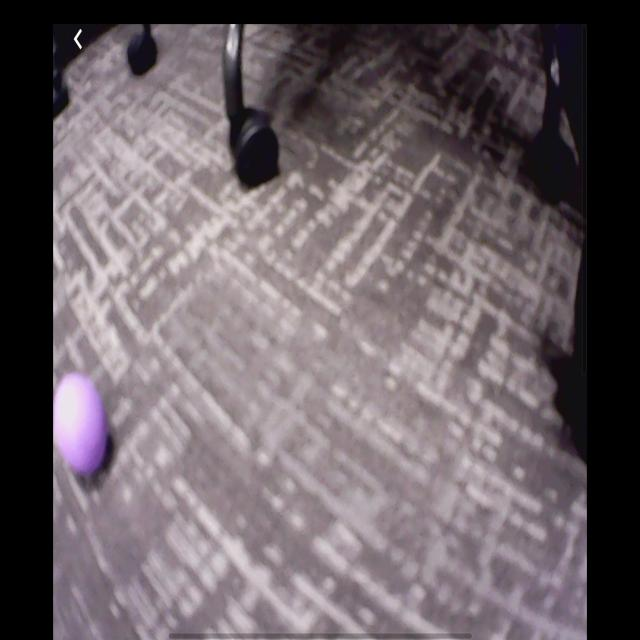ball: (54, 372, 110, 479)
